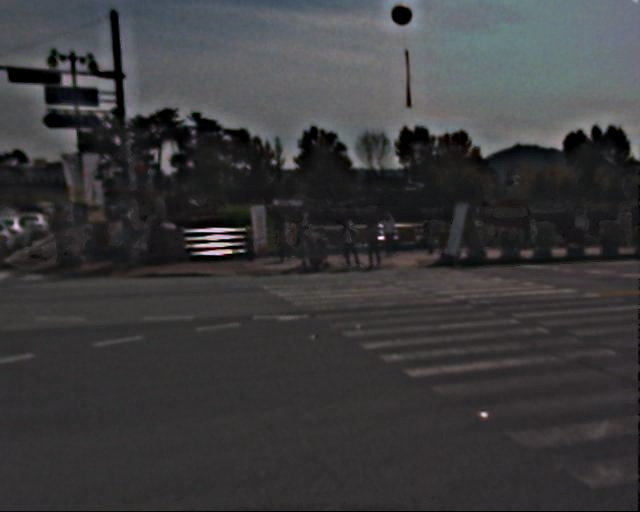person: (49, 201, 91, 267), (106, 210, 137, 262), (294, 209, 317, 266), (367, 214, 390, 270), (340, 218, 362, 272), (275, 213, 296, 263), (383, 210, 401, 255)
